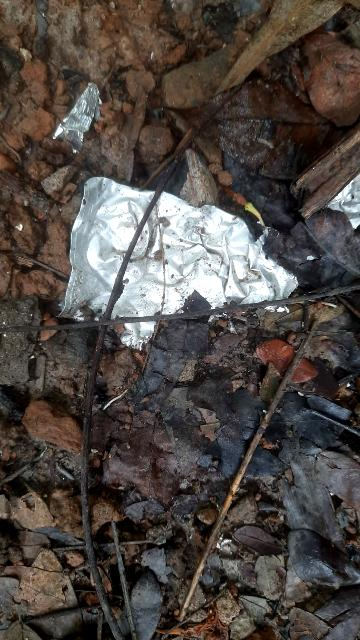medicine: (77, 171, 315, 345)
